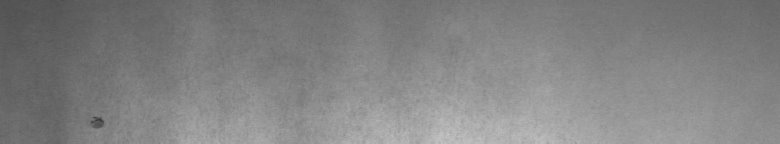fi: (87, 111, 108, 136)
